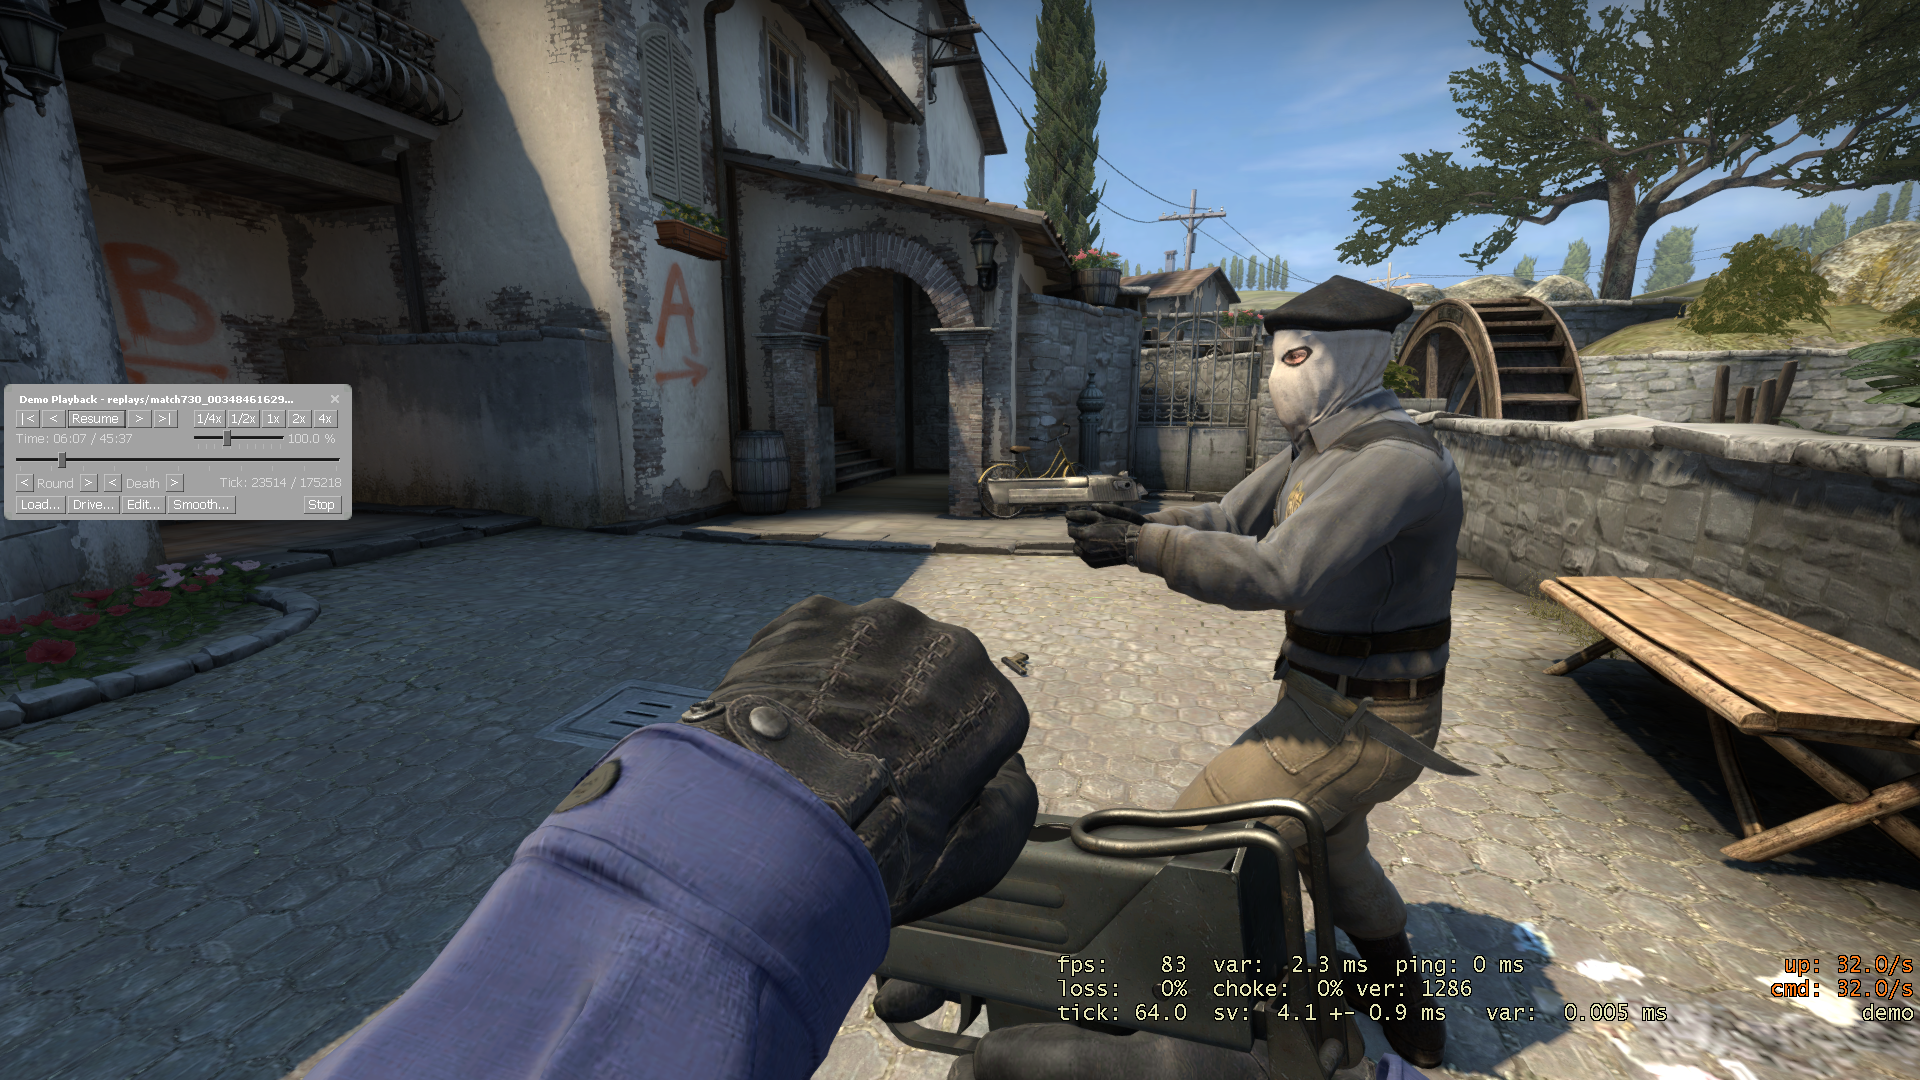t: (1073, 276, 1462, 1065)
